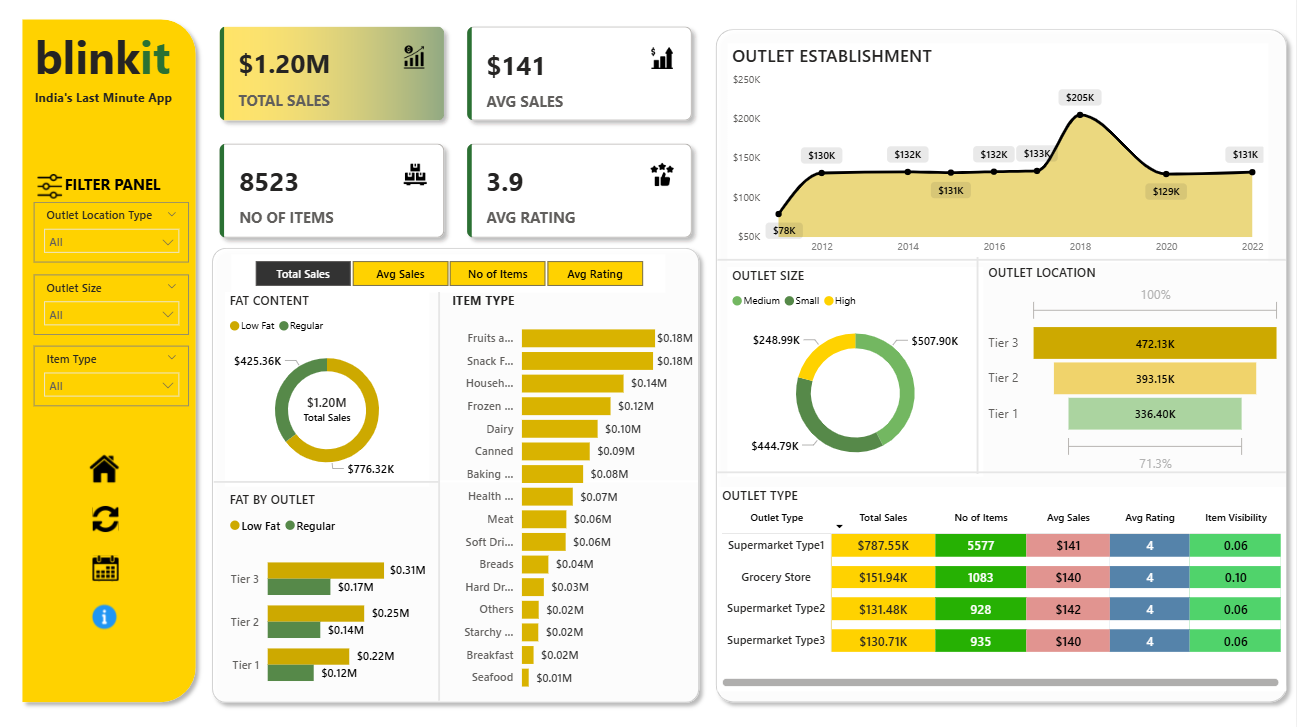

The page's visual inventory and layout, read from the dashboard file:
{"tool":"powerbi","page":{"name":"Page 1","canvas":[1400,800],"ordinal":0},"visuals":[{"type":"shape","box":[25.5,25.5,204.1,750.4],"z":0},{"type":"textbox","box":[43.5,36,309.2,84],"z":1000},{"type":"textbox","box":[43.5,105.1,166.6,28.5],"z":2000},{"type":"textbox","box":[471.3,25.5,39,69],"z":3000},{"type":"cardVisual","fields":{"Data":["BlinkIT Grocery Data.Total Sales","BlinkIT Grocery Data.Avg Sales","BlinkIT Grocery Data.No of Items","BlinkIT Grocery Data.Avg Rating"]},"box":[229.6,25.5,540.3,261.2],"z":4000},{"type":"shape","box":[229.6,270.2,540.3,505.8],"z":5000},{"type":"donutChart","title":"FAT CONTENT","fields":{"Y":["BlinkIT Grocery Data.Total Sales"],"Category":["BlinkIT Grocery Data.Item Fat Content"]},"box":[252.1,327.2,219.1,208.6],"z":6000},{"type":"slicer","fields":{"Values":["Metrics.Metrics"]},"box":[258.1,286.7,465.3,40.5],"z":7000},{"type":"cardVisual","fields":{"Data":["BlinkIT Grocery Data.Total Sales"]},"box":[304.7,417.2,114.1,69],"z":8000},{"type":"clusteredBarChart","title":"FAT BY OUTLET","fields":{"Y":["BlinkIT Grocery Data.Total Sales"],"Category":["BlinkIT Grocery Data.Outlet Location Type"],"Series":["BlinkIT Grocery Data.Item Fat Content"]},"box":[252.1,540.3,220.6,229.6],"z":9000},{"type":"shape","box":[240.1,523.8,519.3,12],"z":10000},{"type":"shape","box":[240.1,525.3,241.6,10.5],"z":11000},{"type":"shape","box":[471.3,327.2,19.5,438.3],"z":12000},{"type":"barChart","title":"ITEM TYPE","fields":{"Y":["BlinkIT Grocery Data.Total Sales"],"Category":["BlinkIT Grocery Data.Item Type"]},"box":[490.8,327.2,268.7,438.3],"z":13000},{"type":"shape","box":[769.9,36,630.4,739.9],"z":14000},{"type":"lineChart","title":"OUTLET ESTABLISHMENT","fields":{"Category":["BlinkIT Grocery Data.Outlet Establishment Year"],"Y":["BlinkIT Grocery Data.Total Sales"]},"box":[791,60,580,235],"z":15000},{"type":"shape","box":[780.4,289.7,609.4,6],"z":16000},{"type":"donutChart","title":"OUTLET SIZE","fields":{"Y":["BlinkIT Grocery Data.Total Sales"],"Category":["BlinkIT Grocery Data.Outlet Size"]},"box":[791,300.2,274.7,225.1],"z":17000},{"type":"shape","box":[1052.1,289.7,13.5,232.6],"z":18000},{"type":"funnel","title":"OUTLET LOCATION ","fields":{"Y":["Sum(BlinkIT Grocery Data.Sales)"],"Category":["BlinkIT Grocery Data.Outlet Location Type"]},"box":[1065.6,295.7,324.2,229.6],"z":19000},{"type":"shape","box":[780.4,517.8,609.4,6],"z":20000},{"type":"pivotTable","title":"OUTLET TYPE","fields":{"Rows":["BlinkIT Grocery Data.Outlet Type"],"Values":["BlinkIT Grocery Data.Total Sales","BlinkIT Grocery Data.No of Items","BlinkIT Grocery Data.Avg Sales","BlinkIT Grocery Data.Avg Rating","Avg(BlinkIT Grocery Data.Item Visibility)"]},"box":[780.4,535.8,609.4,219.1],"z":21000},{"type":"slicer","fields":{"Values":["BlinkIT Grocery Data.Outlet Location Type"]},"box":[46.5,231.1,166.6,64.5],"z":22000},{"type":"slicer","fields":{"Values":["BlinkIT Grocery Data.Outlet Size"]},"box":[46.5,307.7,166.6,64.5],"z":23000},{"type":"slicer","fields":{"Values":["BlinkIT Grocery Data.Item Type"]},"box":[46.5,384.2,166.6,64.5],"z":24000},{"type":"textbox","box":[75,195.1,135.1,40.5],"z":25000},{"type":"actionButton","box":[106.6,546.3,36,46.5],"z":26000},{"type":"actionButton","box":[93.1,486.3,72,60],"z":27000},{"type":"actionButton","box":[106.6,592.8,36,61.5],"z":28000},{"type":"actionButton","box":[103.6,645.4,39,61.5],"z":29000},{"type":"actionButton","box":[46.5,195.1,34.5,36],"z":30000}]}

Visuals, with their boxes in screenshot pixels (x1, y1, x2, y2), scaled from the page's 1400x800 canvas onto the 1297x727 screenshot:
shape: [24,23,213,705]
textbox: [40,33,327,109]
textbox: [40,96,195,121]
textbox: [437,23,473,86]
cardVisual - BlinkIT Grocery Data.Total Sales x BlinkIT Grocery Data.Avg Sales: [213,23,713,261]
shape: [213,246,713,705]
"FAT CONTENT" donutChart: [234,297,437,487]
slicer - Metrics.Metrics: [239,261,670,297]
cardVisual - BlinkIT Grocery Data.Total Sales: [282,379,388,442]
"FAT BY OUTLET" clusteredBarChart: [234,491,438,700]
shape: [222,476,704,487]
shape: [222,477,446,487]
shape: [437,297,455,696]
"ITEM TYPE" barChart: [455,297,704,696]
shape: [713,33,1296,705]
"OUTLET ESTABLISHMENT" lineChart: [733,55,1270,268]
shape: [723,263,1288,269]
"OUTLET SIZE" donutChart: [733,273,987,477]
shape: [975,263,987,475]
"OUTLET LOCATION " funnel: [987,269,1288,477]
shape: [723,471,1288,476]
"OUTLET TYPE" pivotTable: [723,487,1288,686]
slicer - BlinkIT Grocery Data.Outlet Location Type: [43,210,197,269]
slicer - BlinkIT Grocery Data.Outlet Size: [43,280,197,338]
slicer - BlinkIT Grocery Data.Item Type: [43,349,197,408]
textbox: [69,177,195,214]
actionButton: [99,496,132,539]
actionButton: [86,442,153,496]
actionButton: [99,539,132,595]
actionButton: [96,587,132,642]
actionButton: [43,177,75,210]
